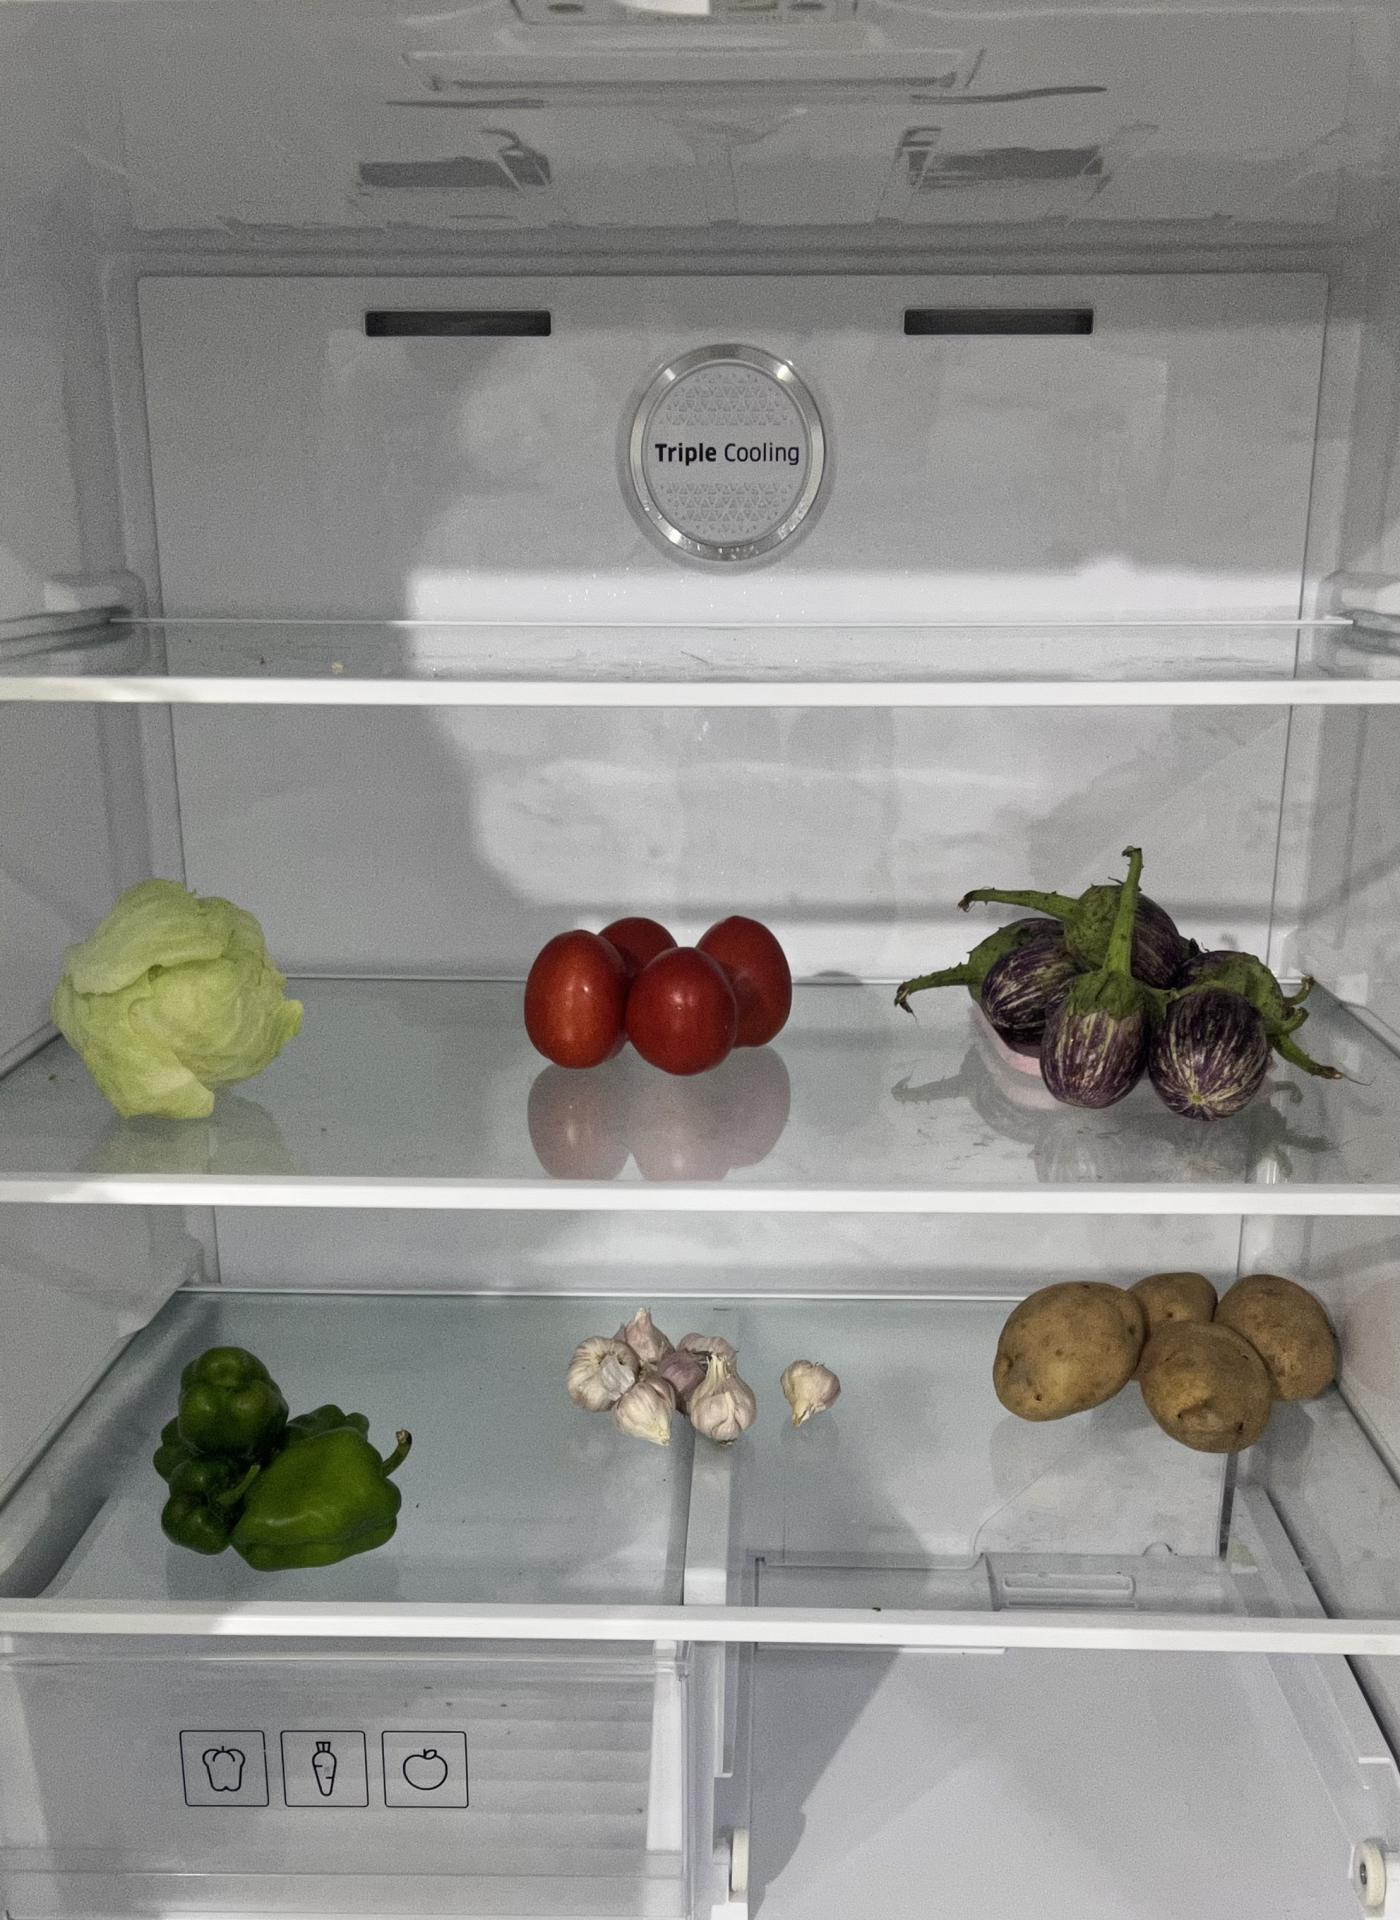brinjal: (948, 853, 1311, 1134)
cabbage: (54, 872, 306, 1114)
capsicum: (154, 1348, 407, 1568)
garlic: (568, 1309, 842, 1447)
potato: (997, 1269, 1349, 1450)
tomato: (526, 917, 798, 1079)
